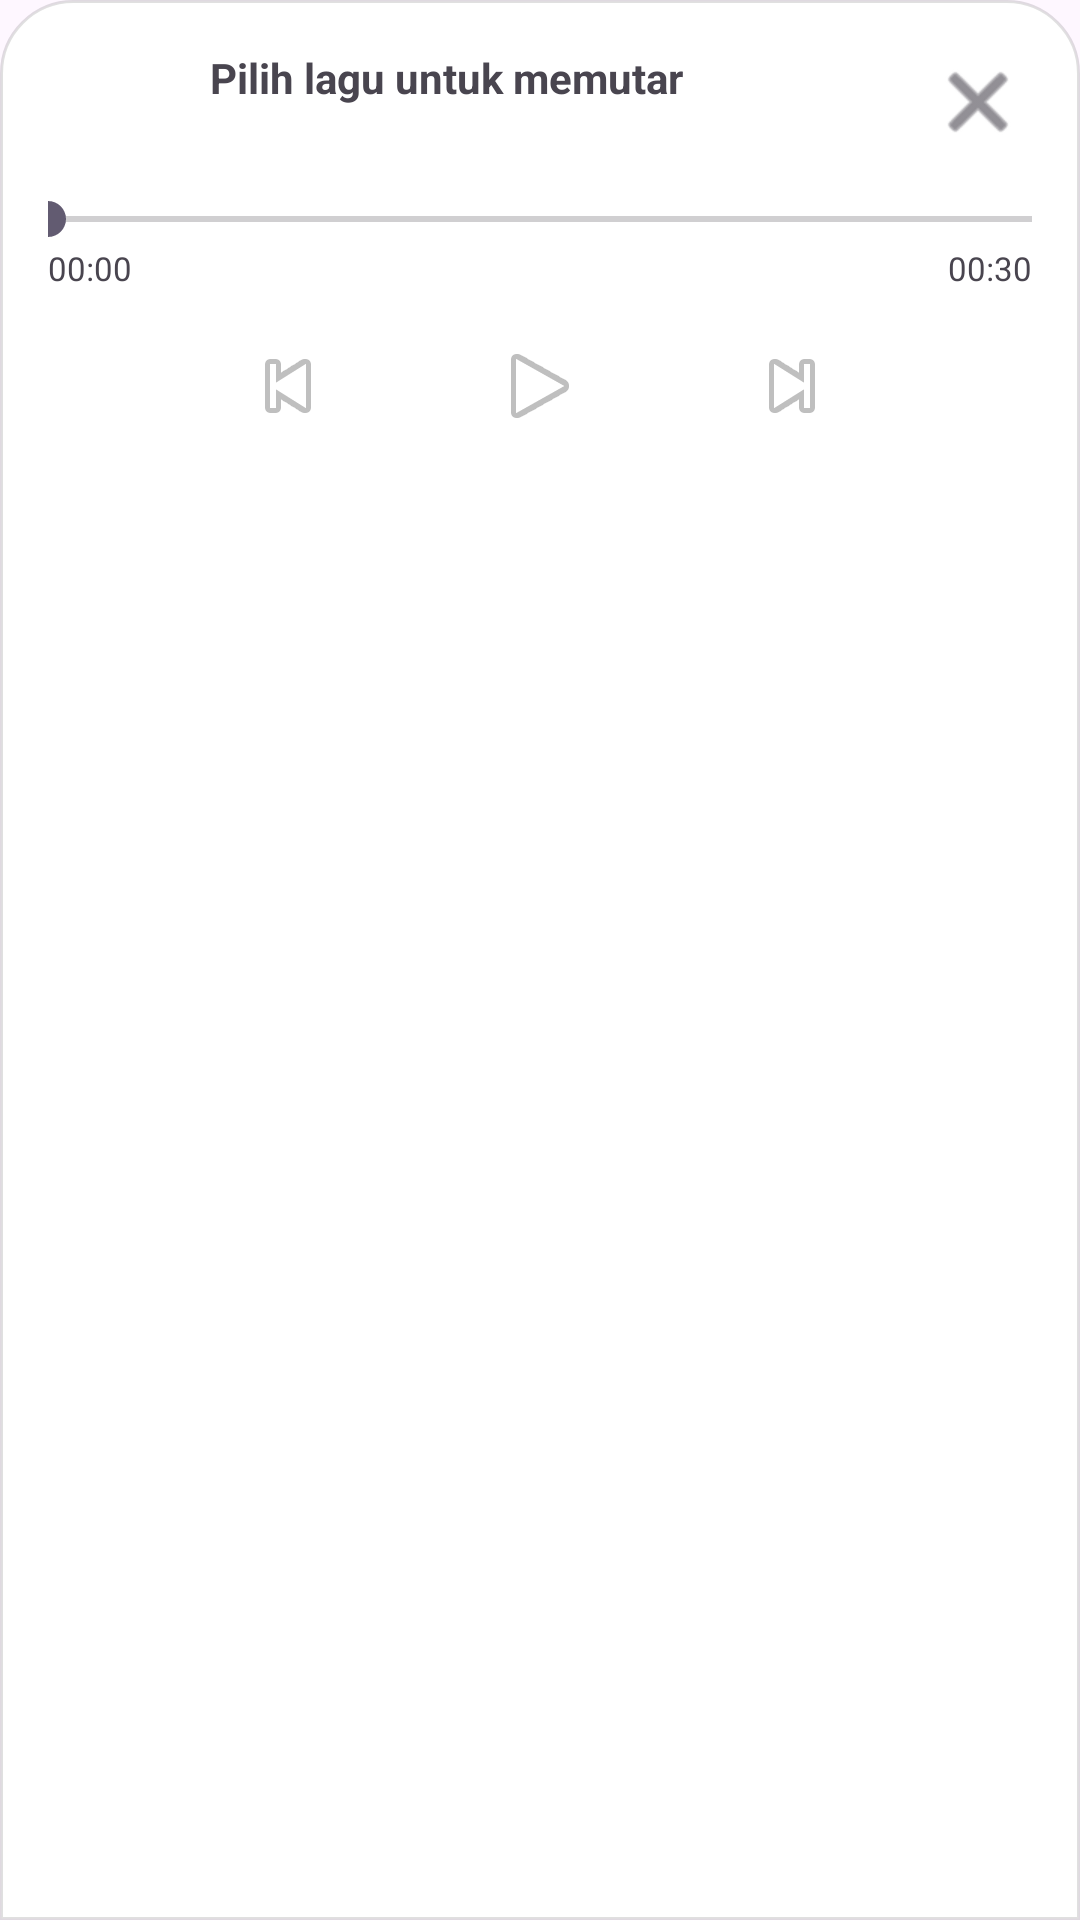

Where to tap for icons on this 1080x1920 app screen, as point (x, y):
Close Player: point (978, 102)
Next: point (792, 386)
Play/Pause: point (540, 386)
Previous: point (288, 386)
